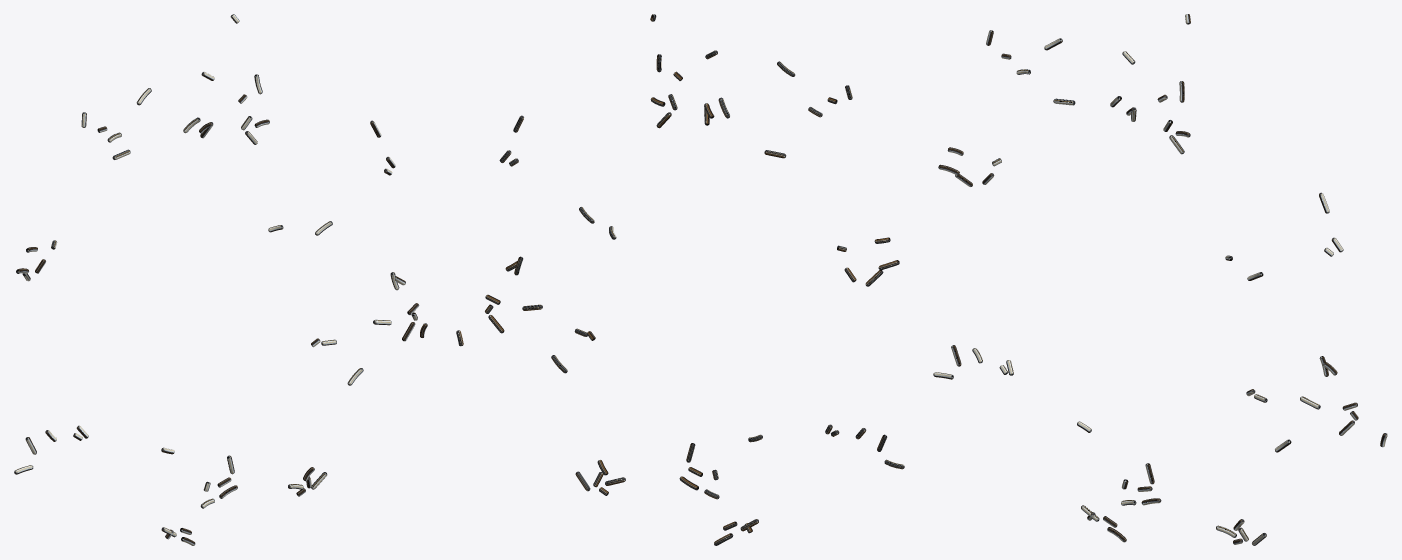
The picture shows the model from 3 angles, left to right: view 1: azimuth 30°, elevation 25°; view 2: azimuth 150°, elevation 25°; view 3: azimuth 330°, elevation 25°; orthographic projection. The views are drawn at different scales.
Bounding box in the file's own units: 0.7359 × 0.8481 × 0.0743.
